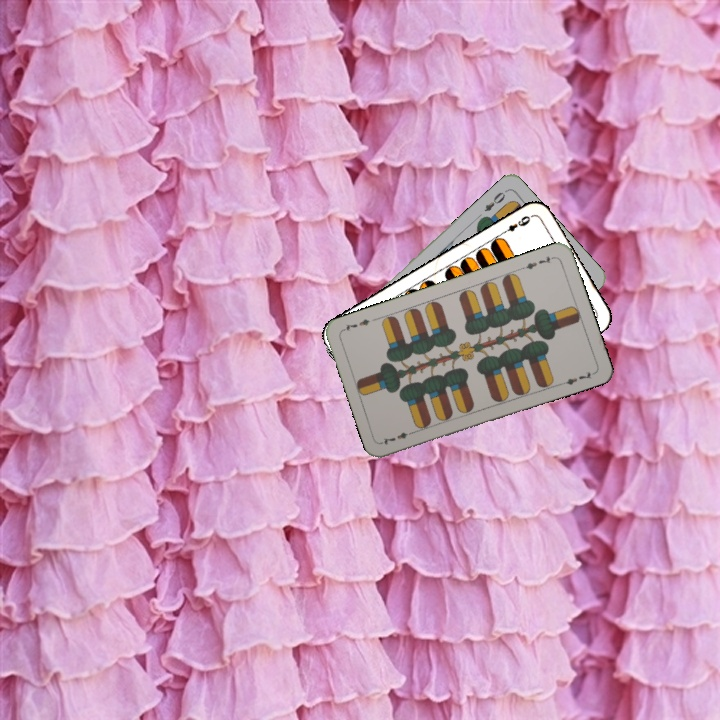E7: (378, 427, 418, 447), (518, 252, 557, 272)
E9: (497, 211, 533, 237)
EO: (480, 186, 510, 214)
